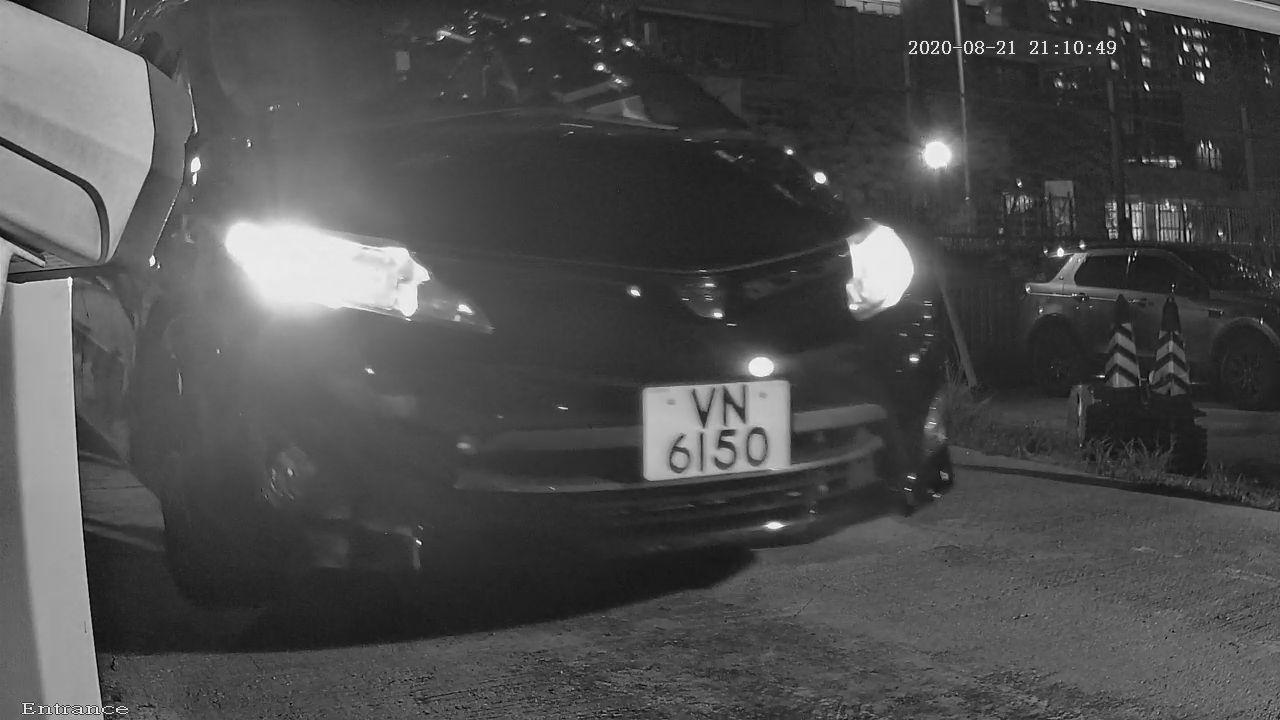Car: (1, 1, 1018, 663)
License Plate: (618, 364, 806, 499)
